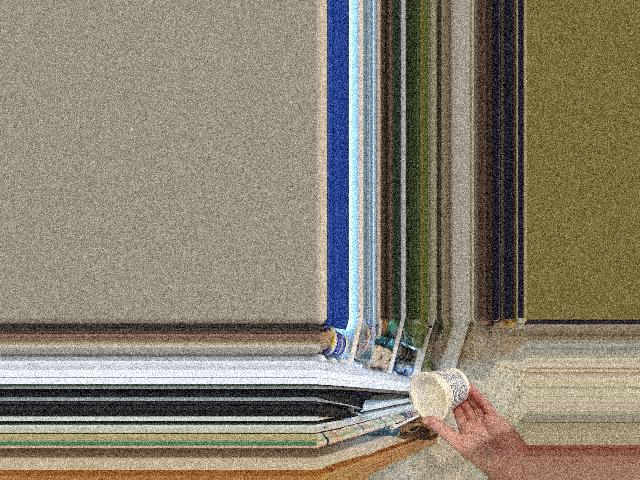cotage: (410, 372, 469, 418)
